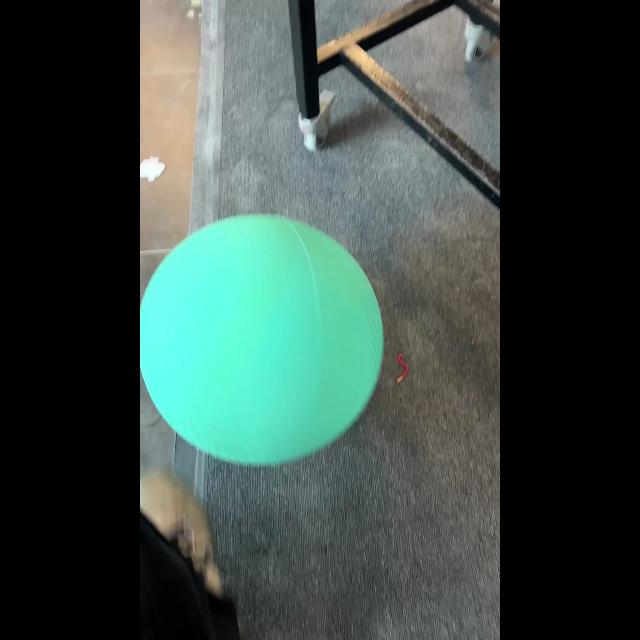ALGAE: (140, 212, 384, 466)
